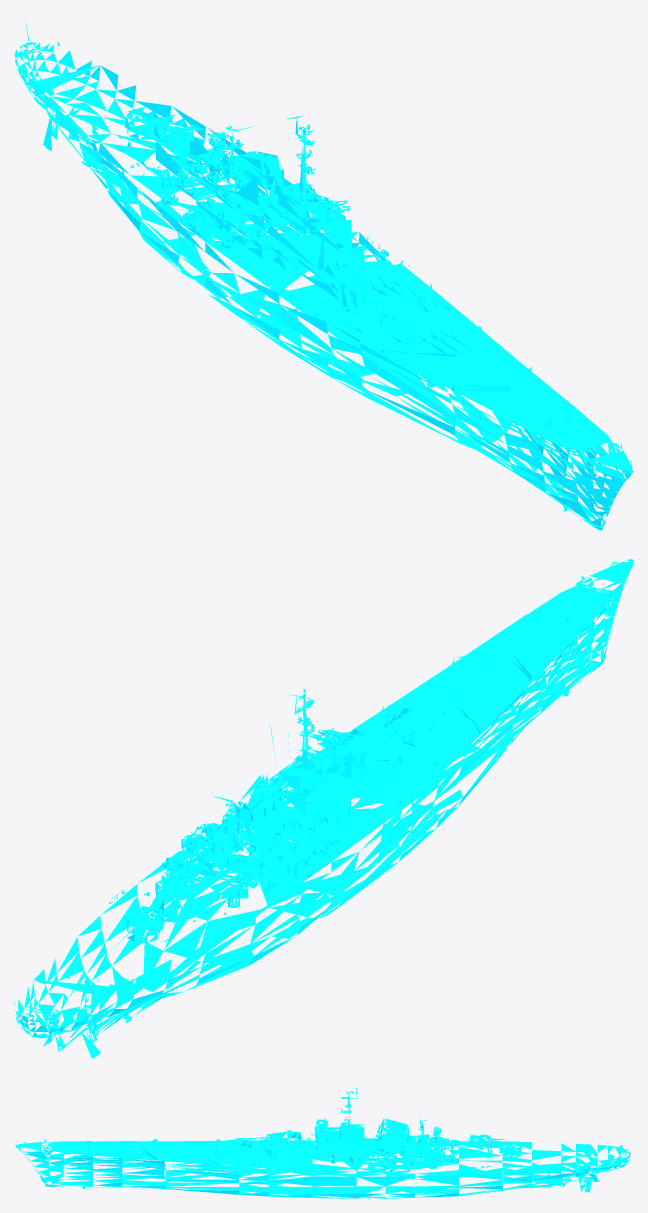
File: Borodino.glb
3 views of the same model, one above another, from view 1: azimuth 30°, elevation 25°; view 2: azimuth 150°, elevation 25°; view 3: azimuth 270°, elevation 25° (orthographic). The views are drawn at different scales.
Size of the model in its own units: 2.29 by 3.29 by 18.36.
